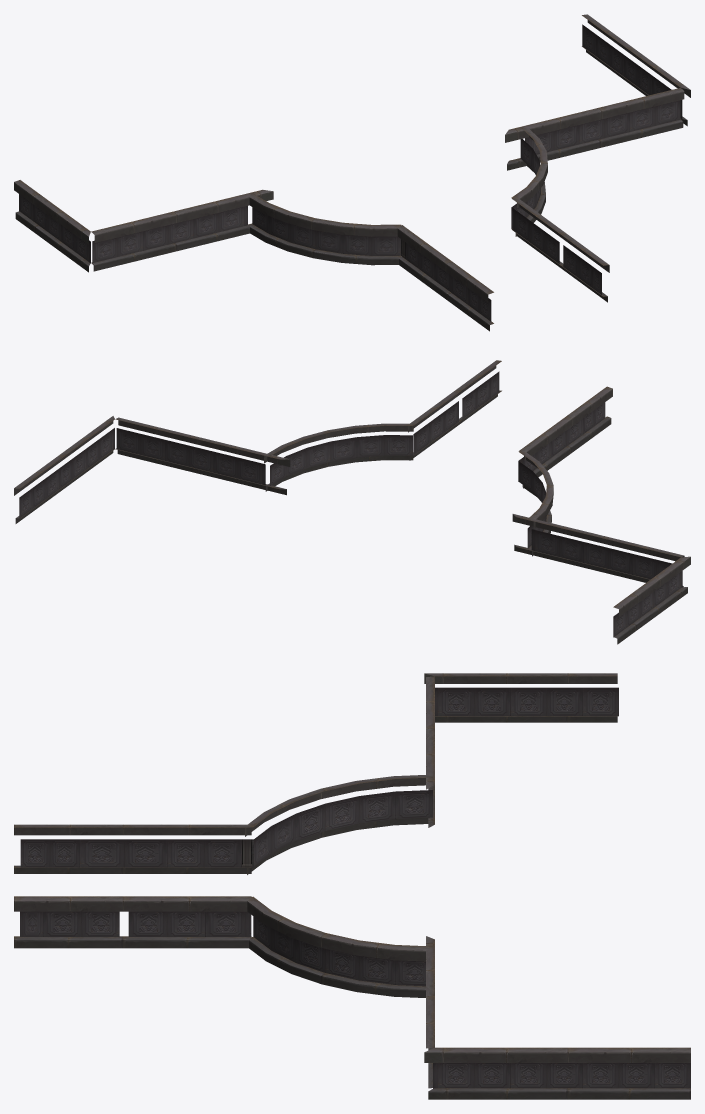
3 views of the same model, one above another, from view 1: azimuth 30°, elevation 25°; view 2: azimuth 150°, elevation 25°; view 3: azimuth 270°, elevation 25° (orthographic). The views are drawn at different scales.
Visible parts, largest first — view 1: 52060_05; view 2: 52060_05; view 3: 52060_05.
Boxes of the visible parts, x1,y1,x2,y2 form: 52060_05: [14, 14, 690, 331]; 52060_05: [14, 360, 690, 644]; 52060_05: [14, 673, 690, 1099].
Bounding box in the file's own units: 2030 × 123 × 1533.
1 material, 1 textured.
